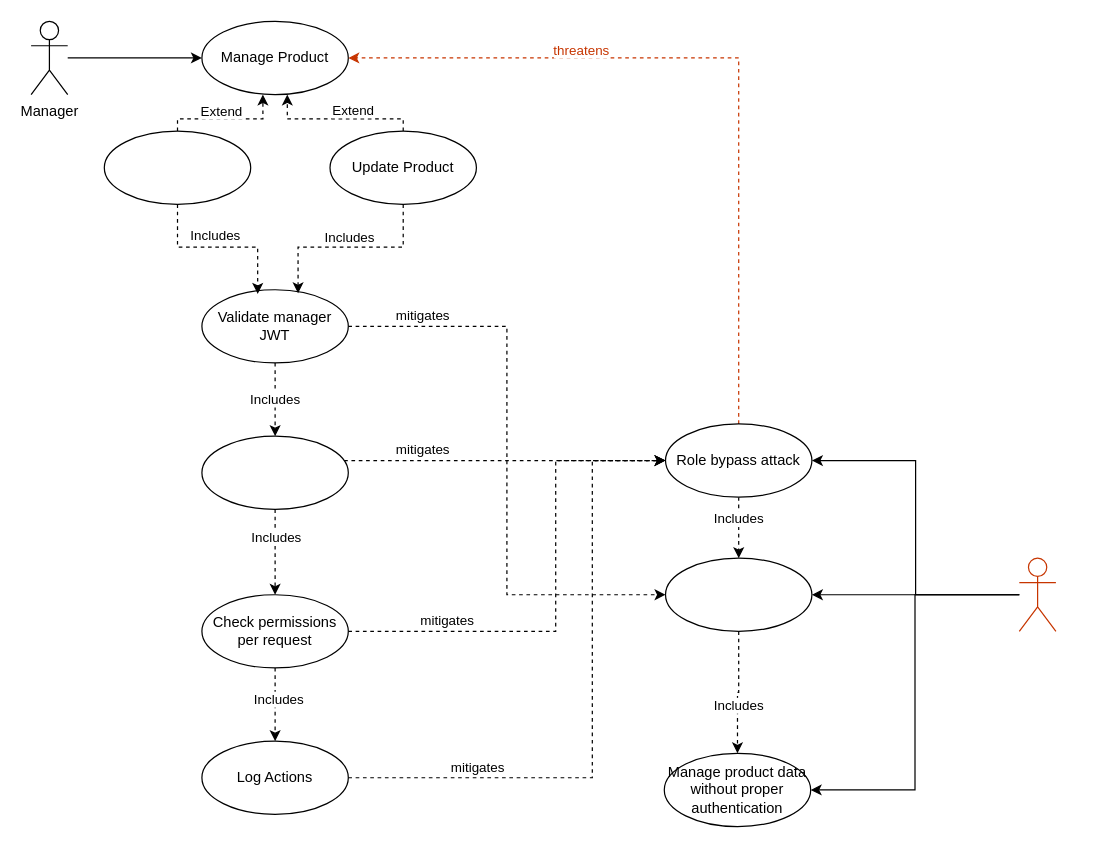
This 1107x848 diagram has some shape labels left out. Each missing label, with the centre of its shape:
"Create Product" goes at [177,167].
"Enforce Role-based authentication" goes at [274,472].
"Forged or tampered JWT" goes at [738,594].
"Malicious User" goes at [1037,594].
